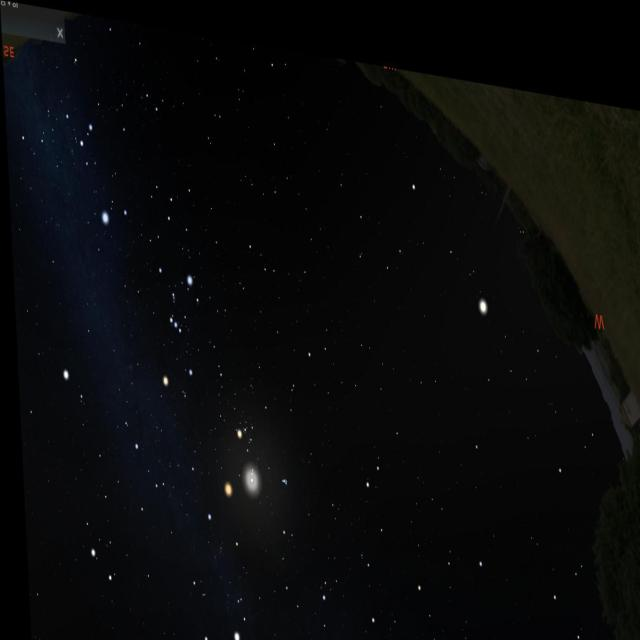canis_major: (78, 112, 133, 213)
canis_minor: (56, 360, 88, 410)
gemini: (73, 425, 178, 590)
moon: (224, 450, 262, 518)
orion: (143, 251, 197, 394)
pleiades: (273, 458, 286, 481)
taurus: (232, 396, 291, 509)
